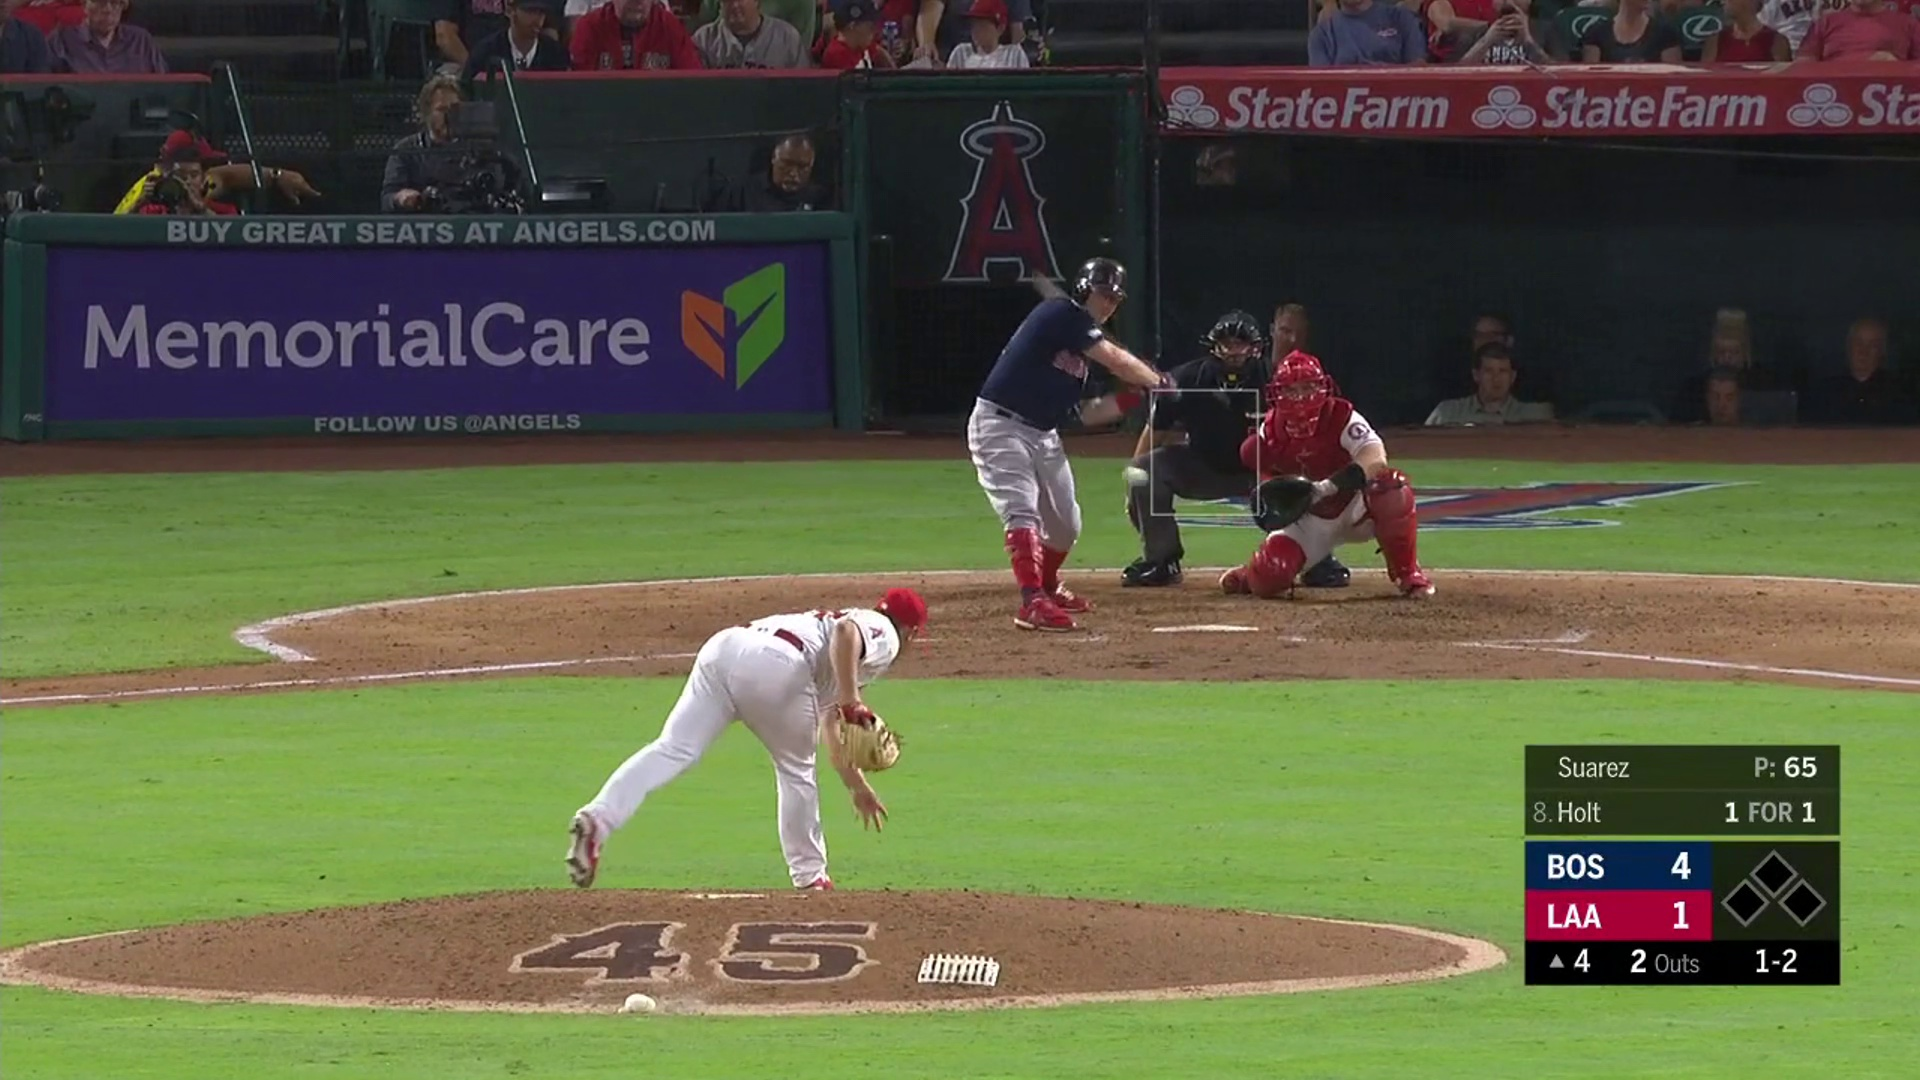baseball: (1122, 465, 1149, 487)
